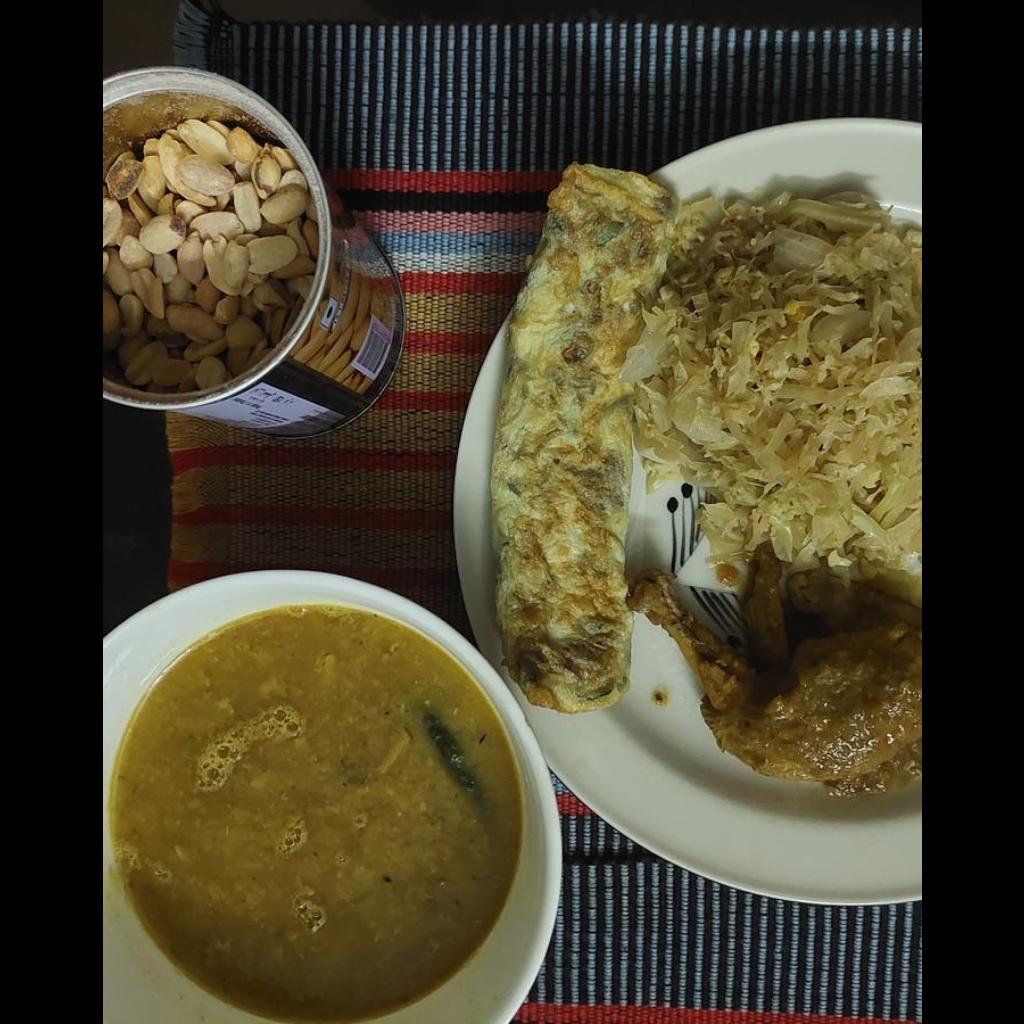badam: (104, 122, 313, 385)
cabbage: (639, 190, 920, 575)
chicken: (628, 543, 919, 792)
daal: (107, 613, 518, 1019)
egg-poached: (493, 166, 677, 709)
